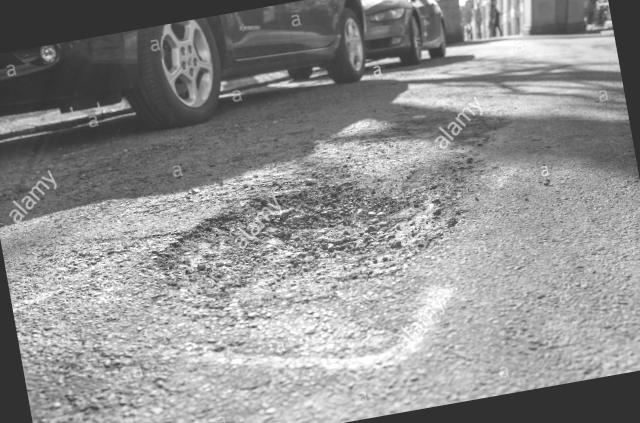Pothole: (133, 138, 508, 339)
